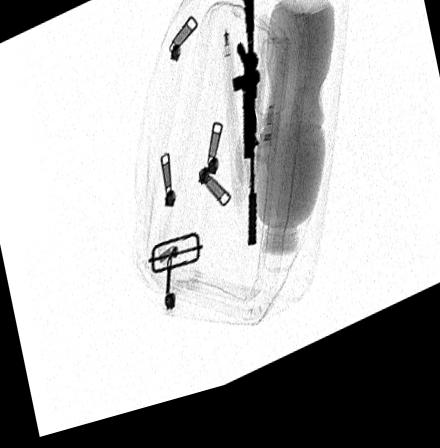Gun: (228, 8, 261, 265)
